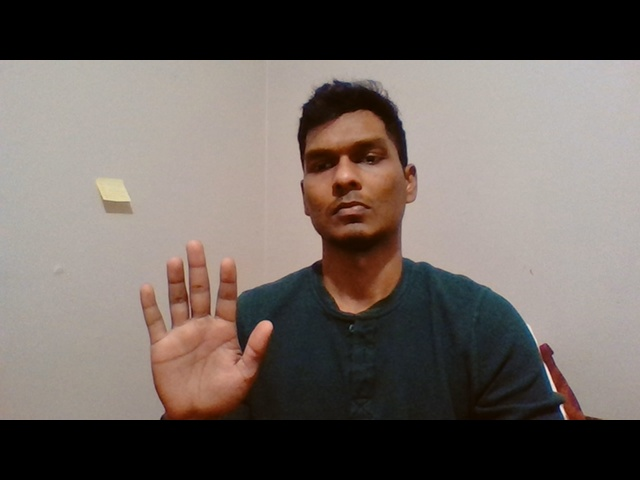Hello: (136, 238, 275, 416)
